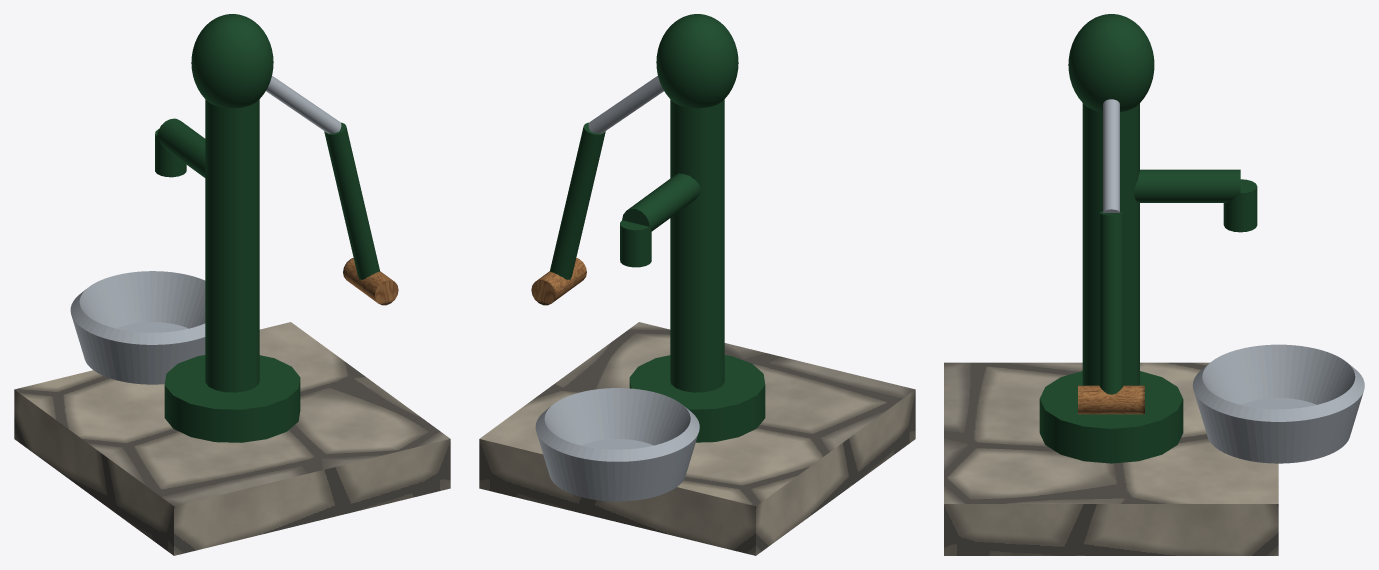
The model's file is Kut_keziszivattyus.obj.
3 views of the same model, side by side, from view 1: azimuth 30°, elevation 25°; view 2: azimuth 150°, elevation 25°; view 3: azimuth 270°, elevation 25° (orthographic). The views are drawn at different scales.
Bounding box in the file's own units: 0.73 × 1.08 × 0.88.
Materials: 4 (2 with a texture image).
